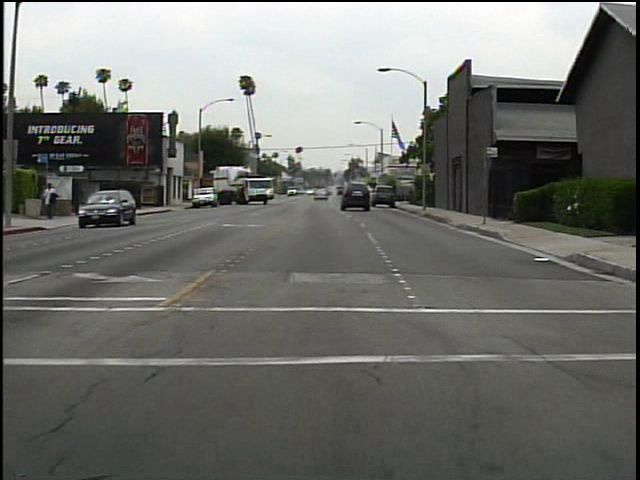person: (43, 180, 64, 224)
